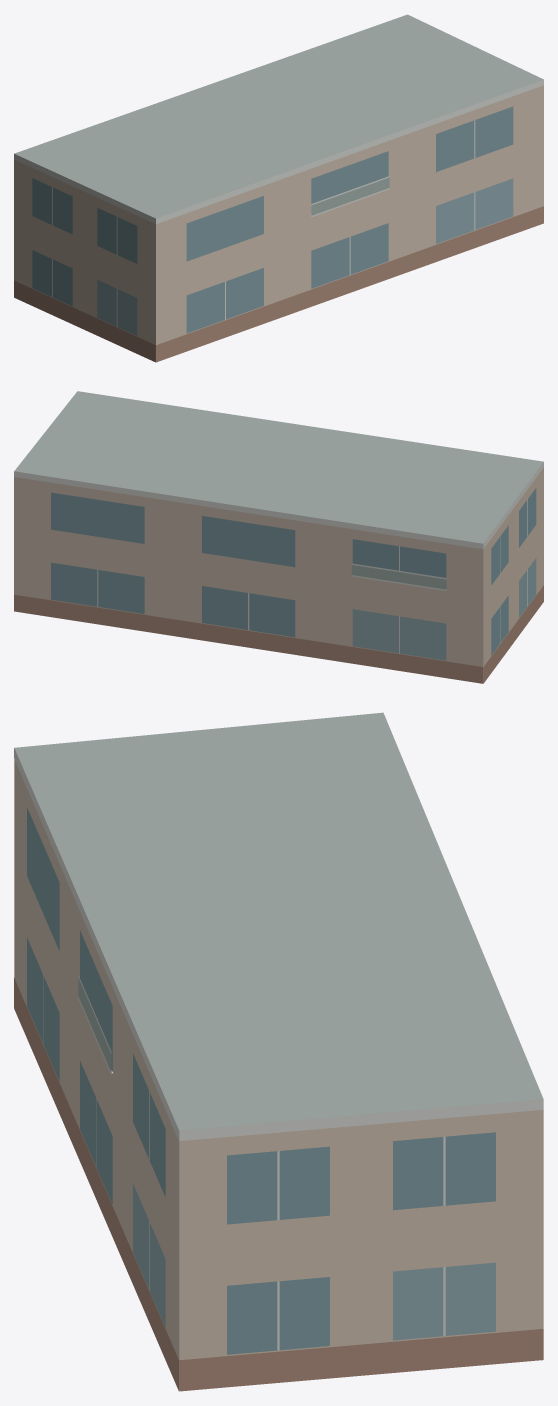
Rendered from survey-upis-32616510.glb.
3 views of the same model, one above another, from view 1: azimuth 30°, elevation 25°; view 2: azimuth 150°, elevation 25°; view 3: azimuth 270°, elevation 25° (orthographic). The views are drawn at different scales.
Visible parts, largest first — view 1: survey-upis-32616510.tmp; view 2: survey-upis-32616510.tmp; view 3: survey-upis-32616510.tmp.
Part boxes in pixels (x1,y1,x2,y2): survey-upis-32616510.tmp: (14, 14, 543, 362); survey-upis-32616510.tmp: (14, 391, 543, 683); survey-upis-32616510.tmp: (14, 712, 543, 1391).
Bounding box in the file's own units: 21.01 × 6.1 × 11.24.
